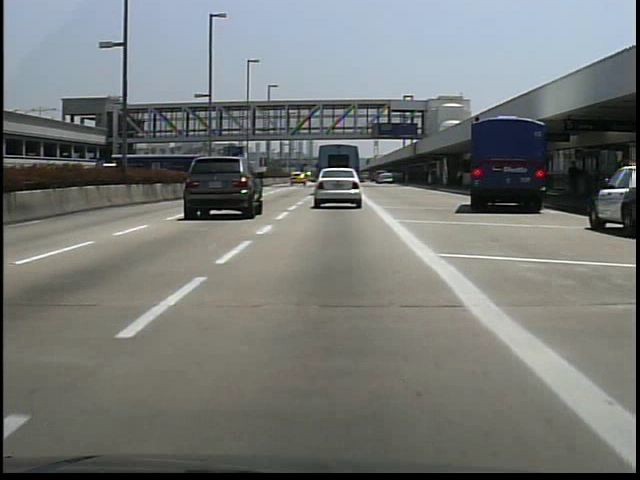person: (565, 155, 585, 207)
